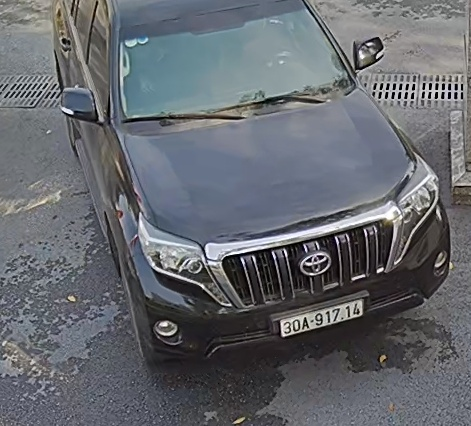vehicle plate: (275, 301, 373, 343)
